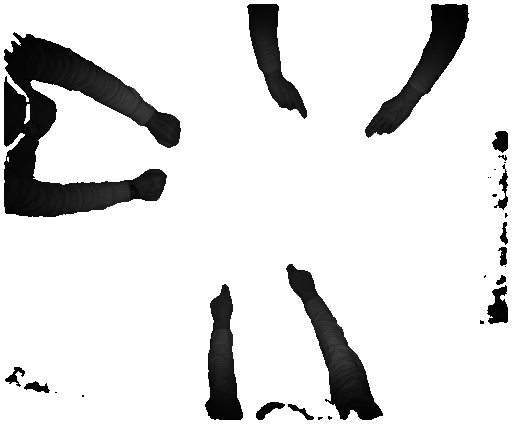fist: (150, 111, 183, 151), (136, 168, 167, 207)
hand: (360, 95, 415, 143), (268, 75, 311, 119), (208, 280, 238, 327), (280, 264, 317, 298)
